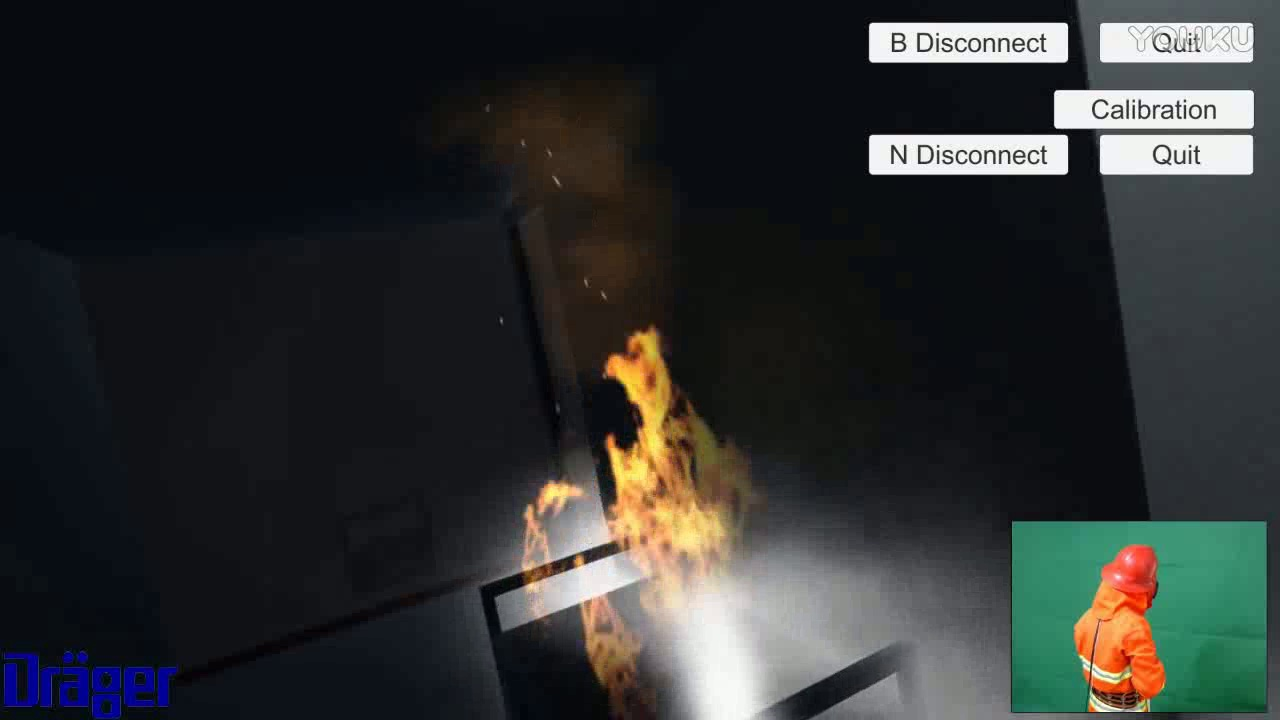fire: (599, 326, 754, 620), (502, 471, 581, 626), (570, 582, 659, 718)
